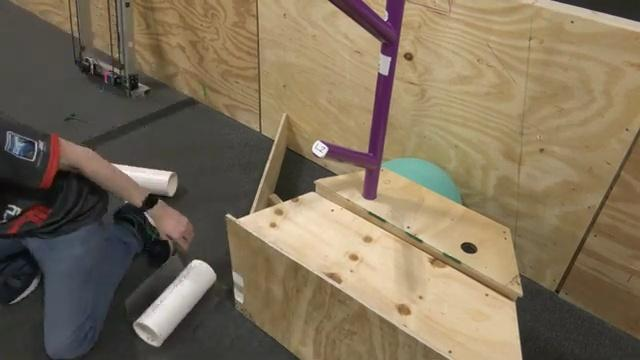CORAL: (131, 257, 217, 347), (108, 161, 179, 198)
